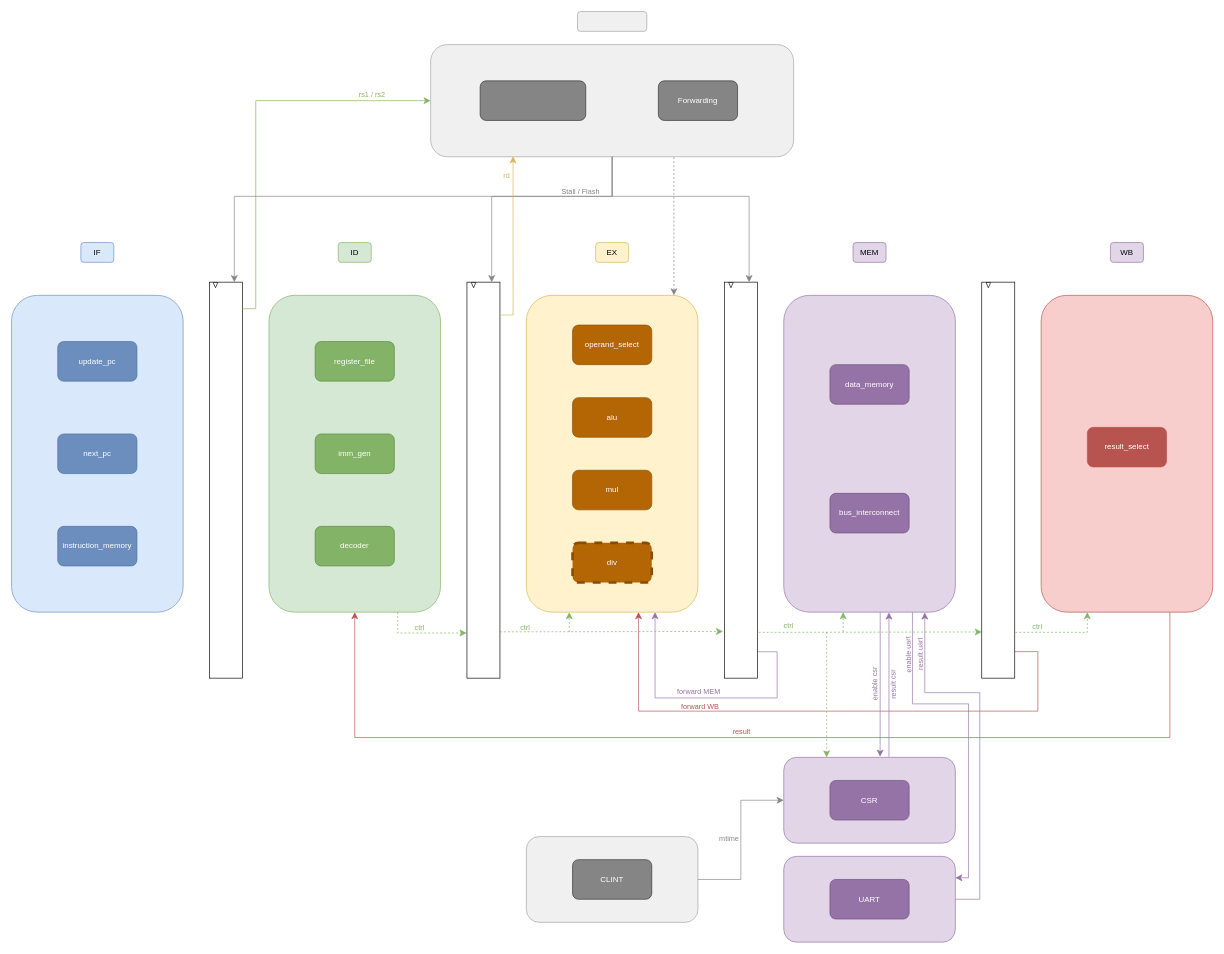
Some shapes in this 1224 by 954 pixel diagram are drawn without their labels. Here are the shapes that lost their labels. From the top down, the centre of each, then its label:
point 612,21: Hazard Unit
point 532,100: Hazard DetectionUnit
